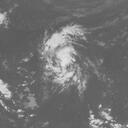cyclone: (38, 22, 93, 91)
